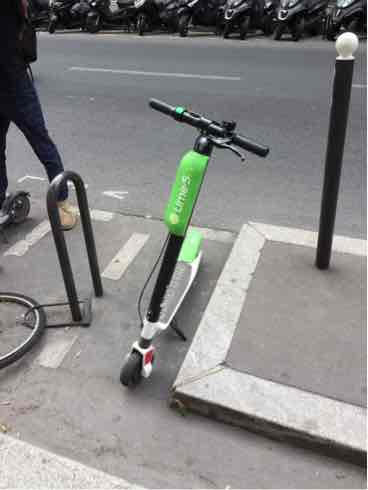scooter: (115, 94, 276, 405)
